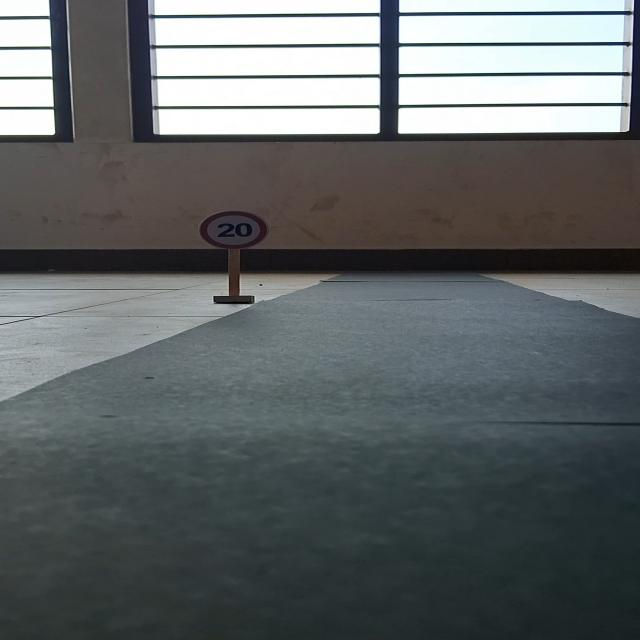Speed20: (190, 208, 275, 252)
